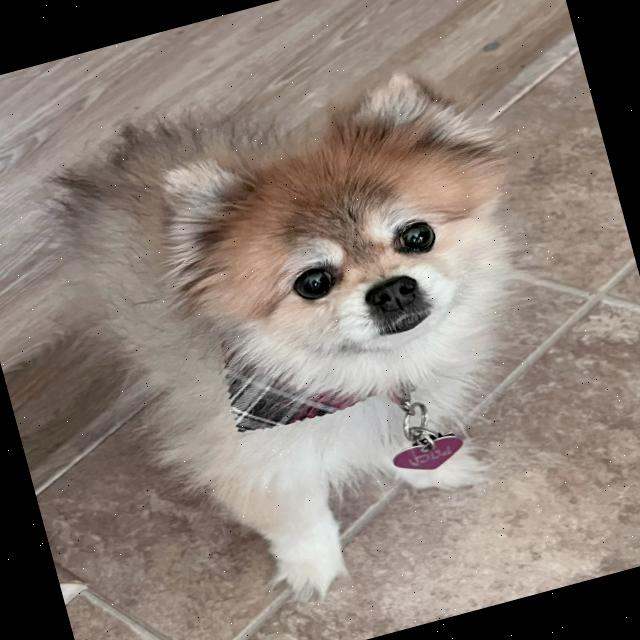pomeranian_dog: (116, 36, 563, 411)
